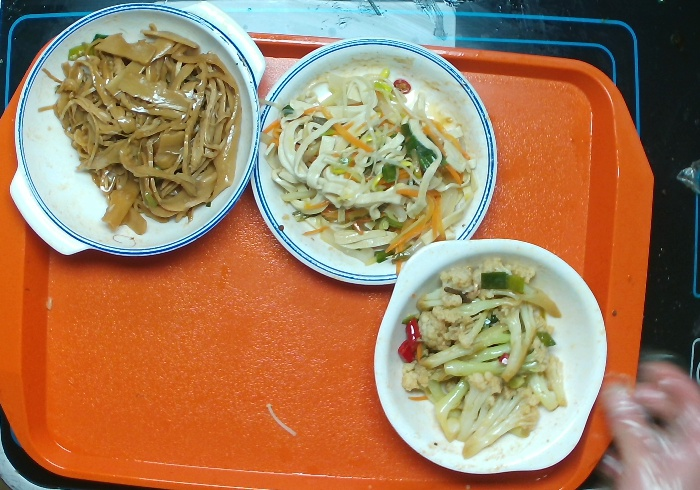HZYJPL-Dai_Er_Bai_Yuan_Wan: (374, 236, 609, 472)
HZYJPL-Lan_Bian_Dai_Er_Wan: (4, 4, 269, 262)
HZYJPL-Lan_Bian_Yuan_Die: (252, 39, 495, 285)
